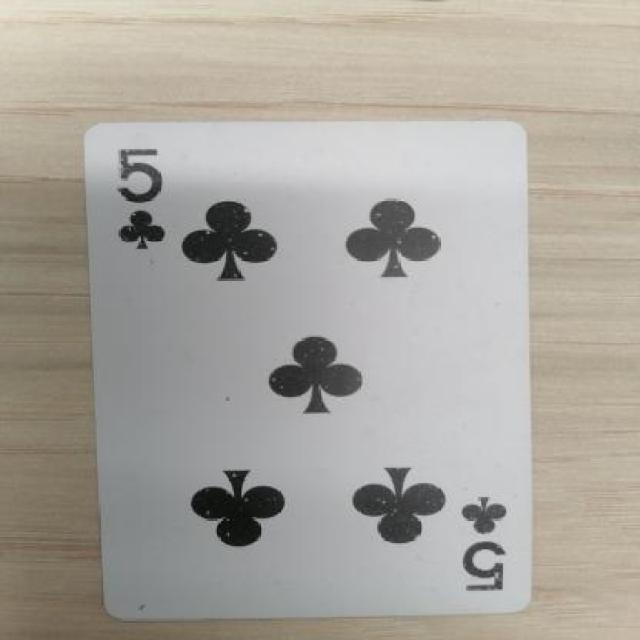5C: (104, 144, 178, 262), (454, 474, 518, 608)
